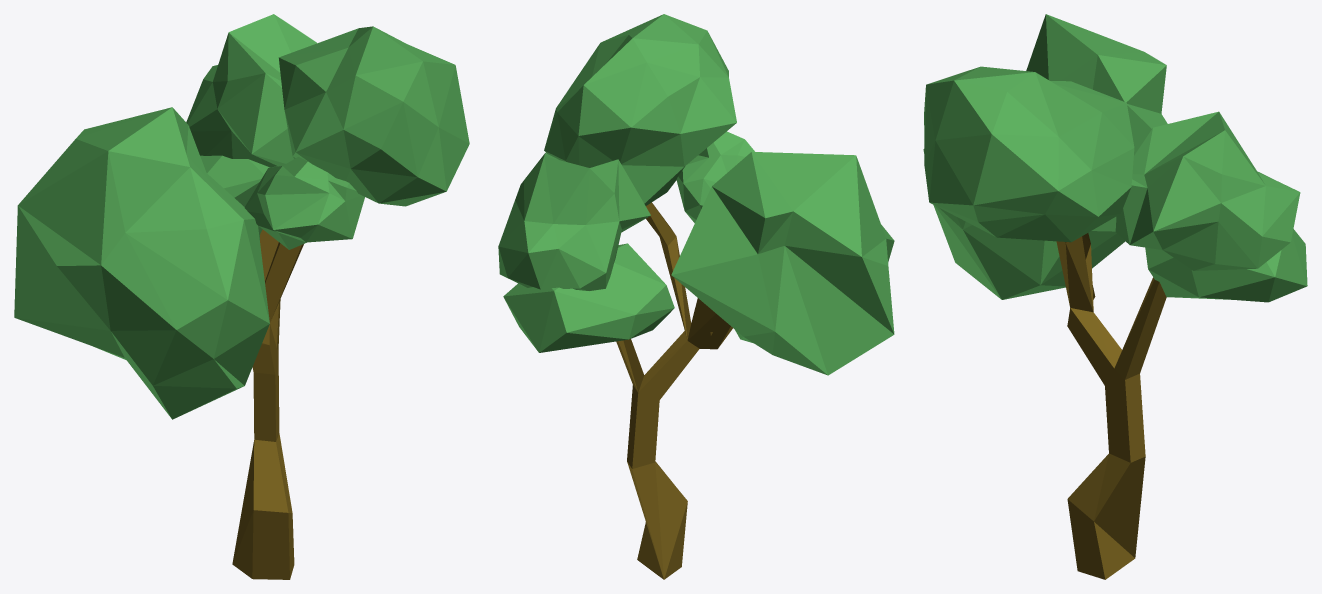
Rendered from shu5.FBX.
3 renders of one model, left to right at view 1: azimuth 30°, elevation 25°; view 2: azimuth 150°, elevation 25°; view 3: azimuth 270°, elevation 25°, orthographic. The views are drawn at different scales.
Parts seen in each view (by area): view 1: 对象005, Line004; view 2: 对象005, Line004; view 3: 对象005, Line004.
Part boxes in pixels (left/top/right/bottom): 对象005: left=14, top=14, right=469, bottom=419; Line004: left=232, top=229, right=303, bottom=579; 对象005: left=498, top=14, right=894, bottom=375; Line004: left=616, top=202, right=732, bottom=579; 对象005: left=923, top=14, right=1307, bottom=302; Line004: left=1056, top=233, right=1166, bottom=579.
Bounding box in the file's own units: 3.35 × 4.4 × 2.91.
